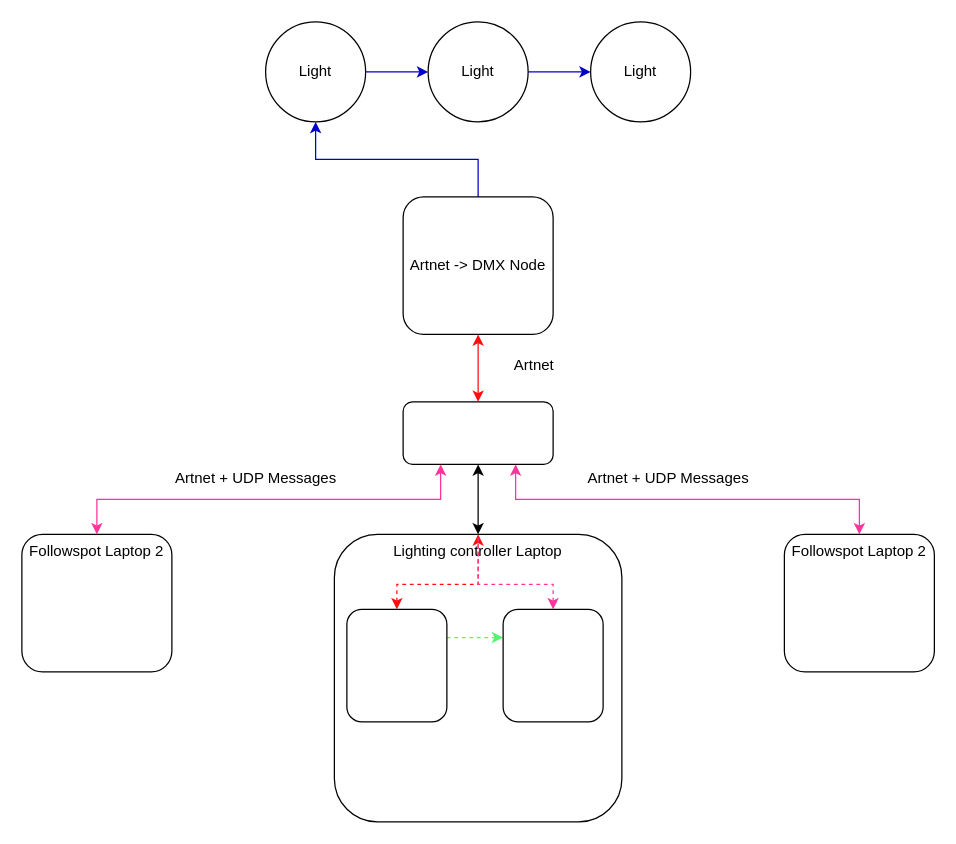
This 956x844 diagram has some shape labels left out. Here are the shapes that lost their labels. From the top down, the centre of each, then its label:
At point (477, 432): "Network Switch".
At point (396, 665): "MagicQ".
At point (552, 665): "MidiLink".
